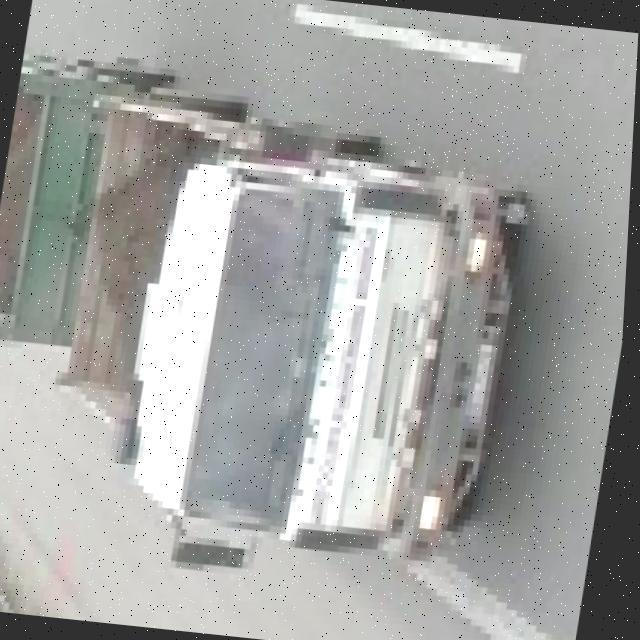truck: (0, 26, 569, 592)
